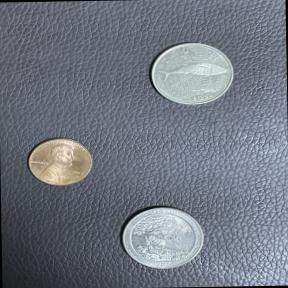Croatia-2Kune-B: (146, 37, 240, 110)
US-1cent-B: (23, 134, 97, 190)
US-25cent-B: (116, 203, 210, 273)
